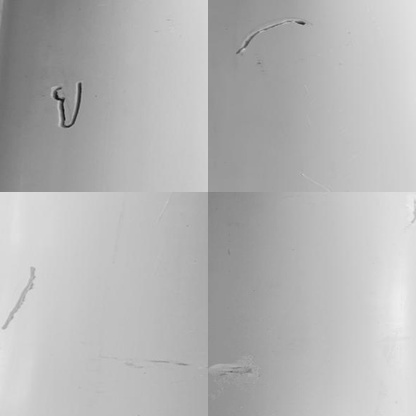fengxi: (232, 15, 308, 56), (49, 79, 88, 132)
sunshang: (210, 361, 258, 391)
